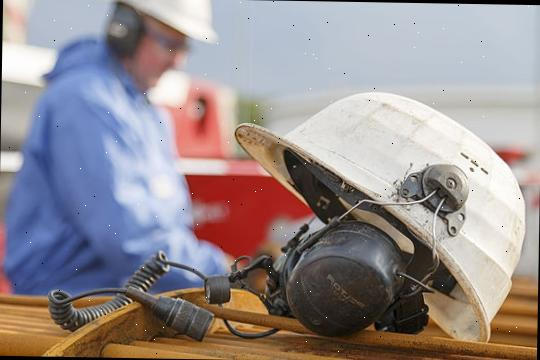helmet: (226, 84, 532, 346), (113, 0, 225, 45)
